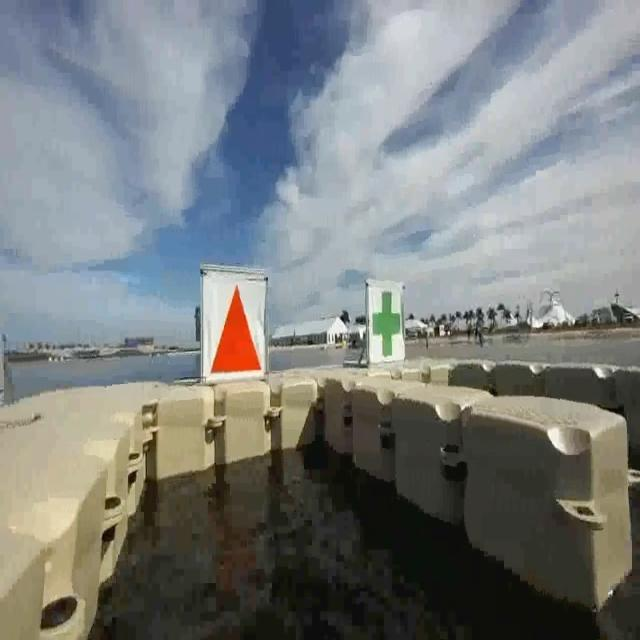blue-cross: (369, 268, 405, 360)
red-dot: (206, 271, 264, 384)
